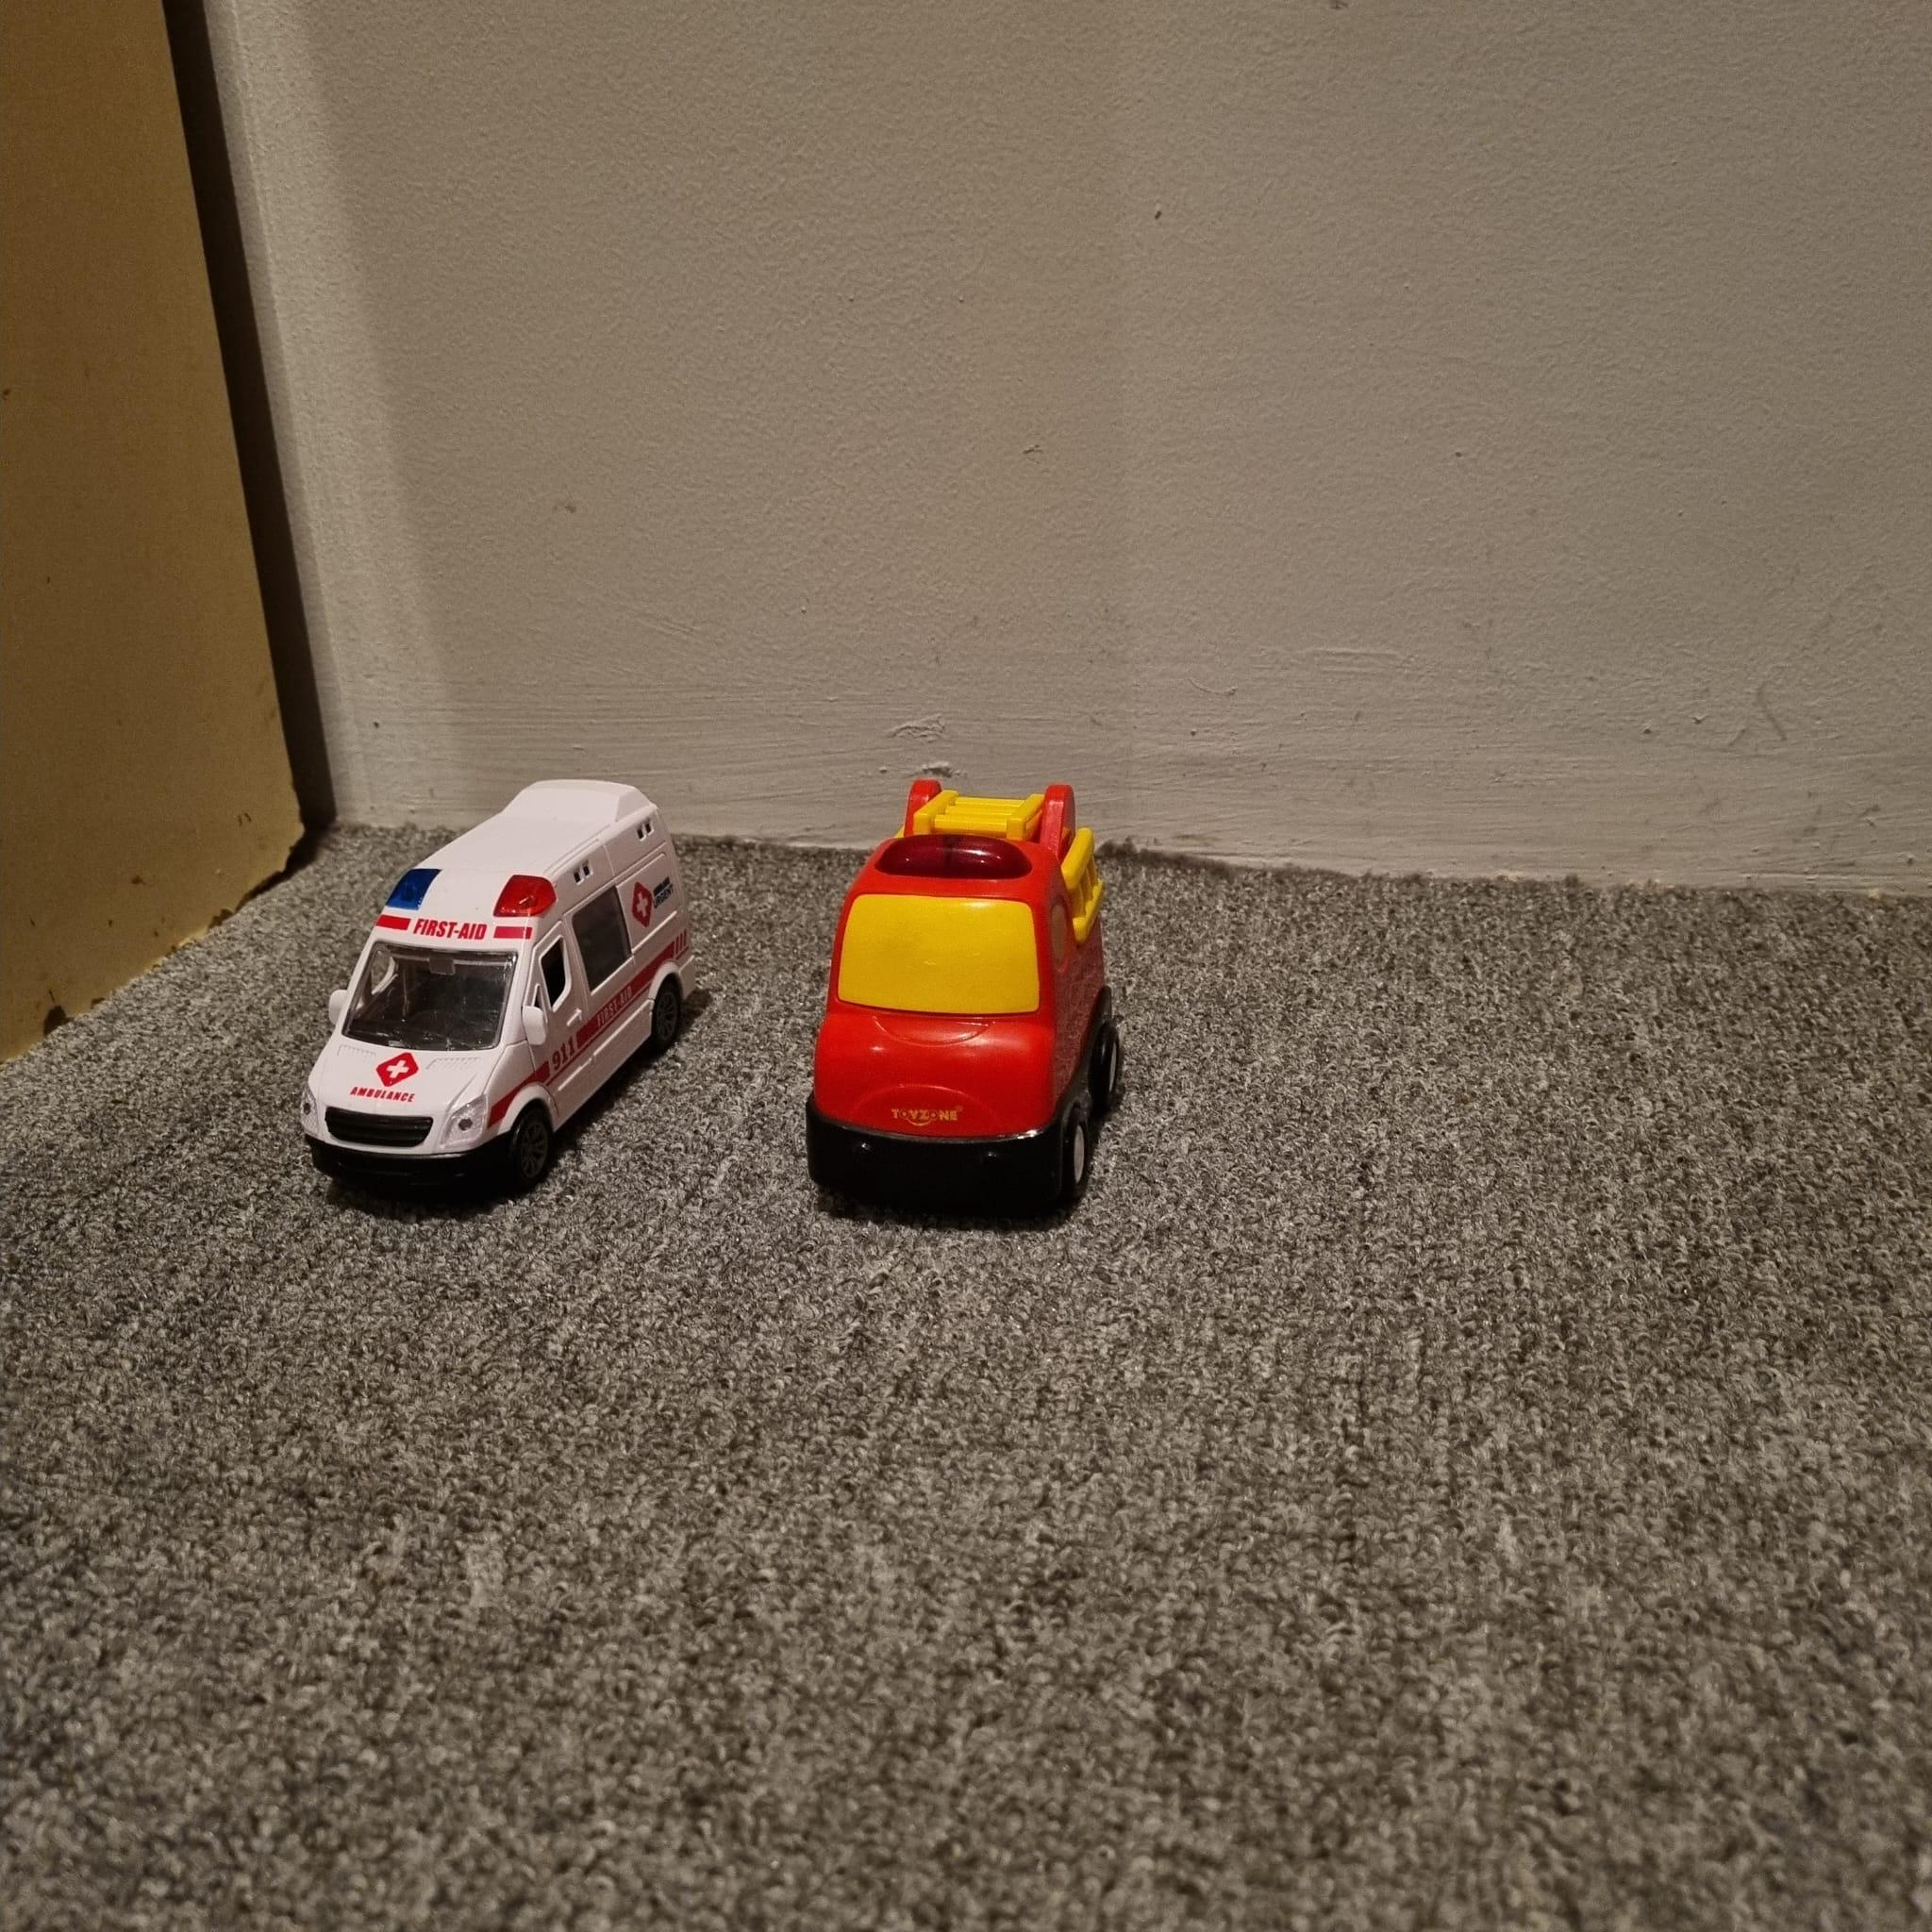ambulance_off: (281, 784, 683, 1198)
firetruck_off: (807, 778, 1125, 1210)
